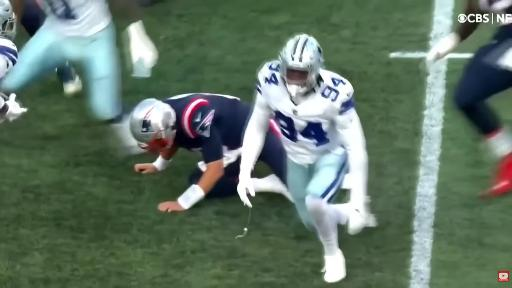Helmet: (279, 34, 323, 97), (130, 99, 176, 150), (0, 0, 16, 40)
Jersey: (256, 61, 354, 164), (162, 94, 250, 163), (37, 0, 112, 36), (0, 38, 18, 79), (477, 0, 511, 14), (478, 0, 511, 13)
Player: (238, 35, 375, 282), (0, 0, 140, 152), (130, 94, 250, 211), (455, 23, 511, 197), (0, 0, 18, 79), (21, 0, 45, 37)
